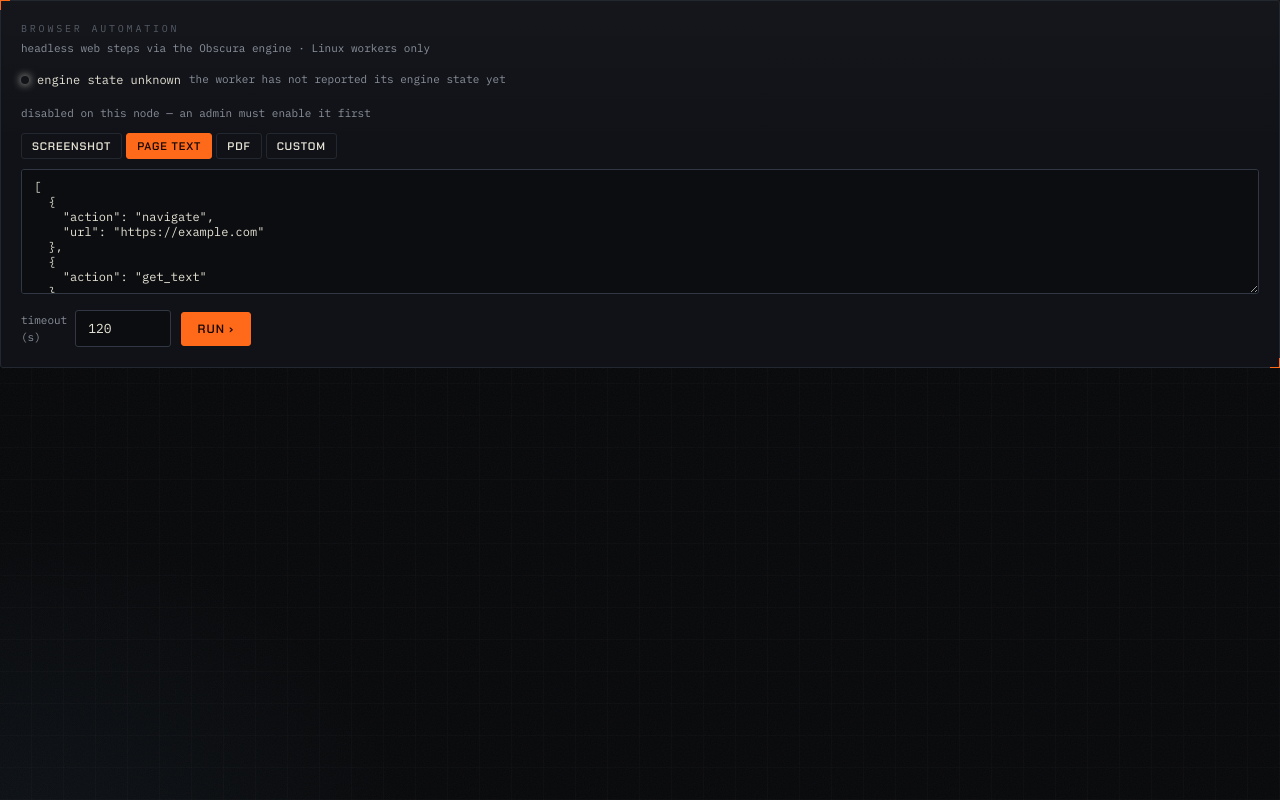
Test: BrowserAutomation › shows the hub's disabled-capability 403 verbatim
Click the button "Run ›" at [216, 328], box [181,312,251,346]
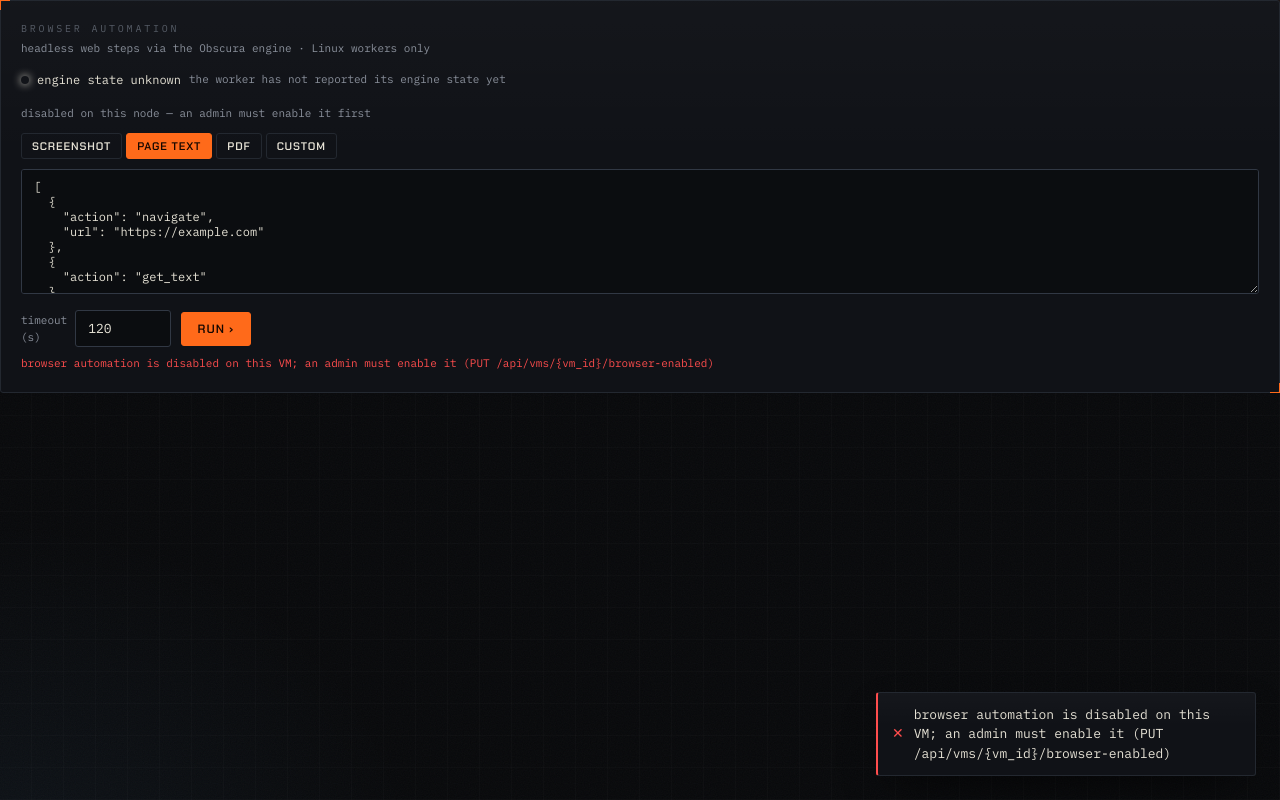
Now the text "browser automation is disabled on this VM; an admin must enable it (PUT /api/vms/{vm_id}/browser-enabled)" below "timeout (s)" is shown, box [21,356,714,370]
